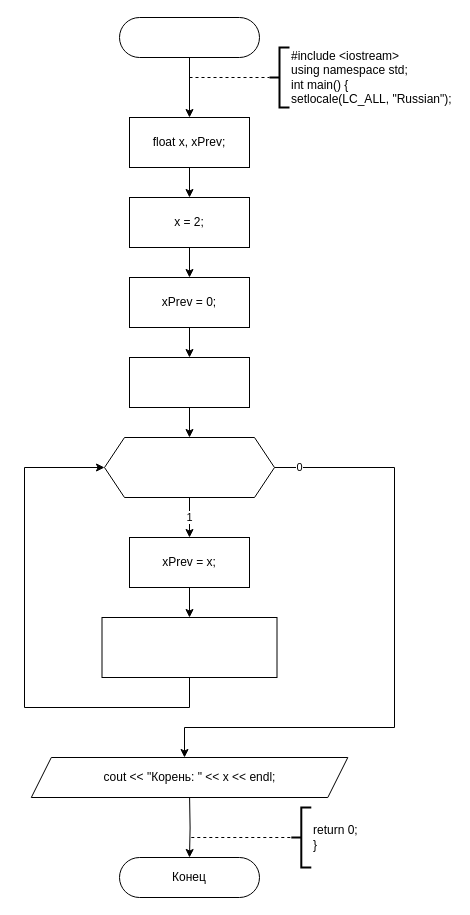
Some shapes in this 470 by 915 pixel diagram are drawn without their labels. The box of each missing label's shape, as (x1, y1, x2, y2) in pixels:
double eps = 0.000001;: (128, 356, 250, 408)
while (abs(x - xPrev) > eps): (104, 436, 274, 498)
x = xPrev - ((pow(xPrev, 3) - xPrev - 1) / (3 * pow(xPrev, 2) - 1));: (101, 616, 277, 678)
Запуск: (118, 16, 260, 58)
